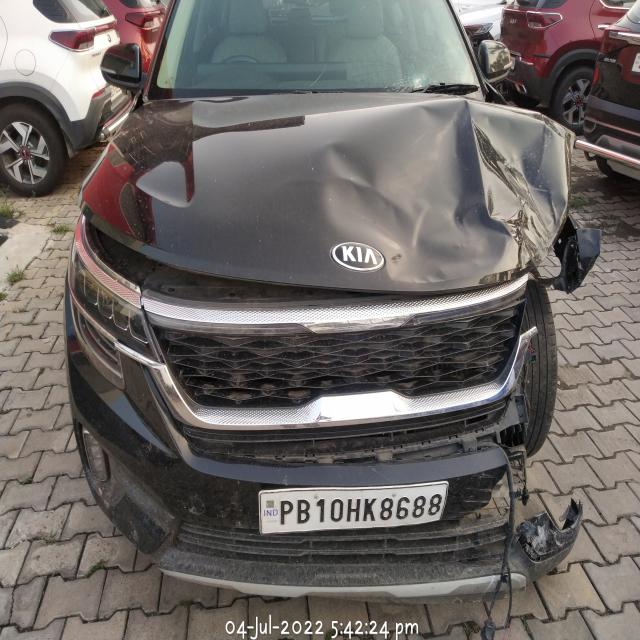damage: (352, 106, 566, 276), (467, 384, 566, 603), (487, 266, 559, 356), (532, 211, 602, 300)
